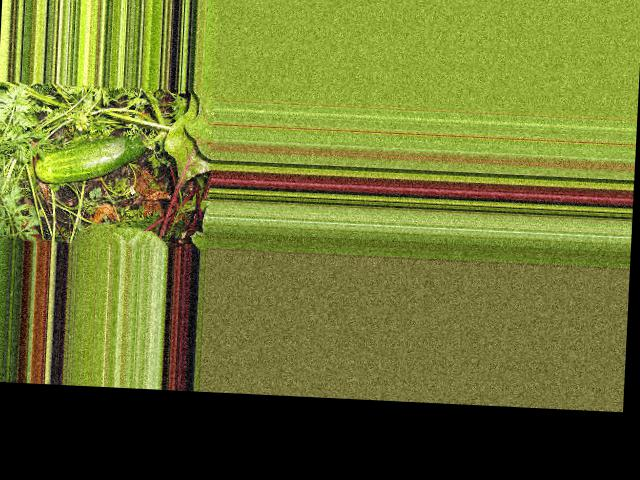cucumber: (36, 129, 147, 187)
